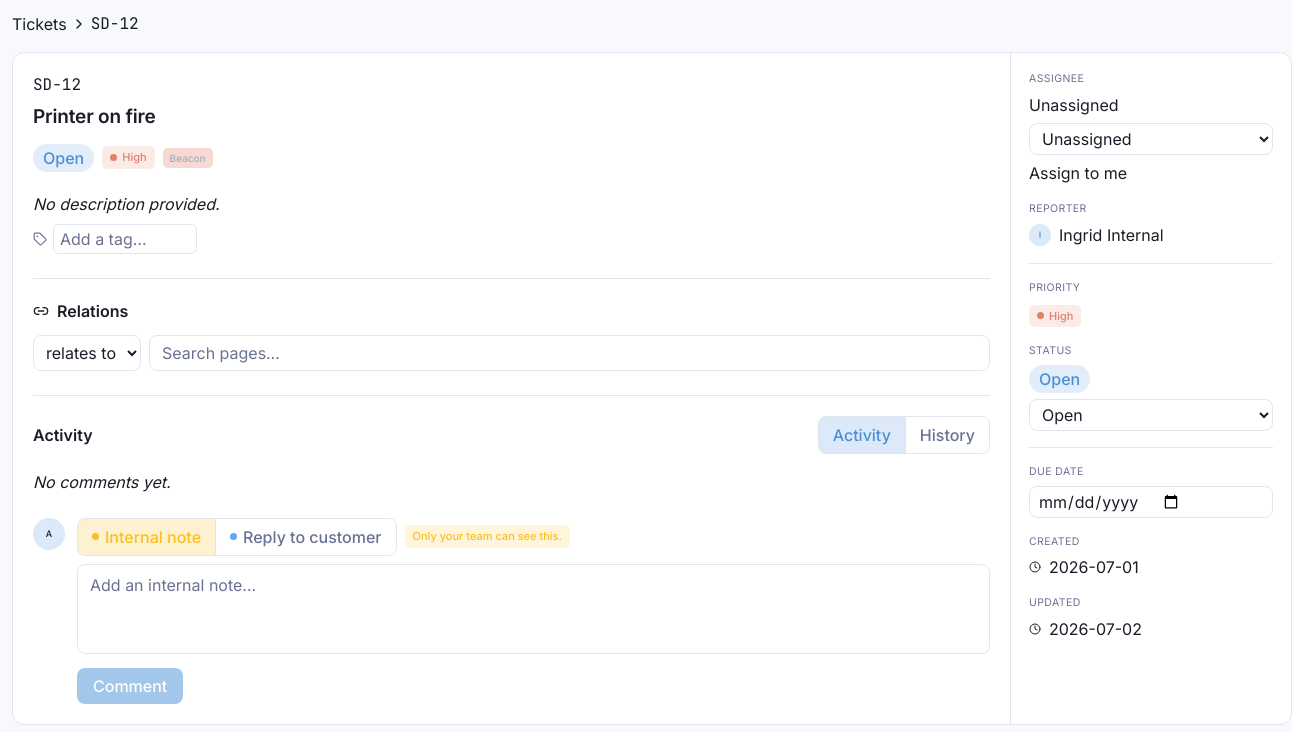
it: history tab › renders an honest empty state when there is no history
Click the radio button labelled "History" at (947, 435), box [906,417,989,453]
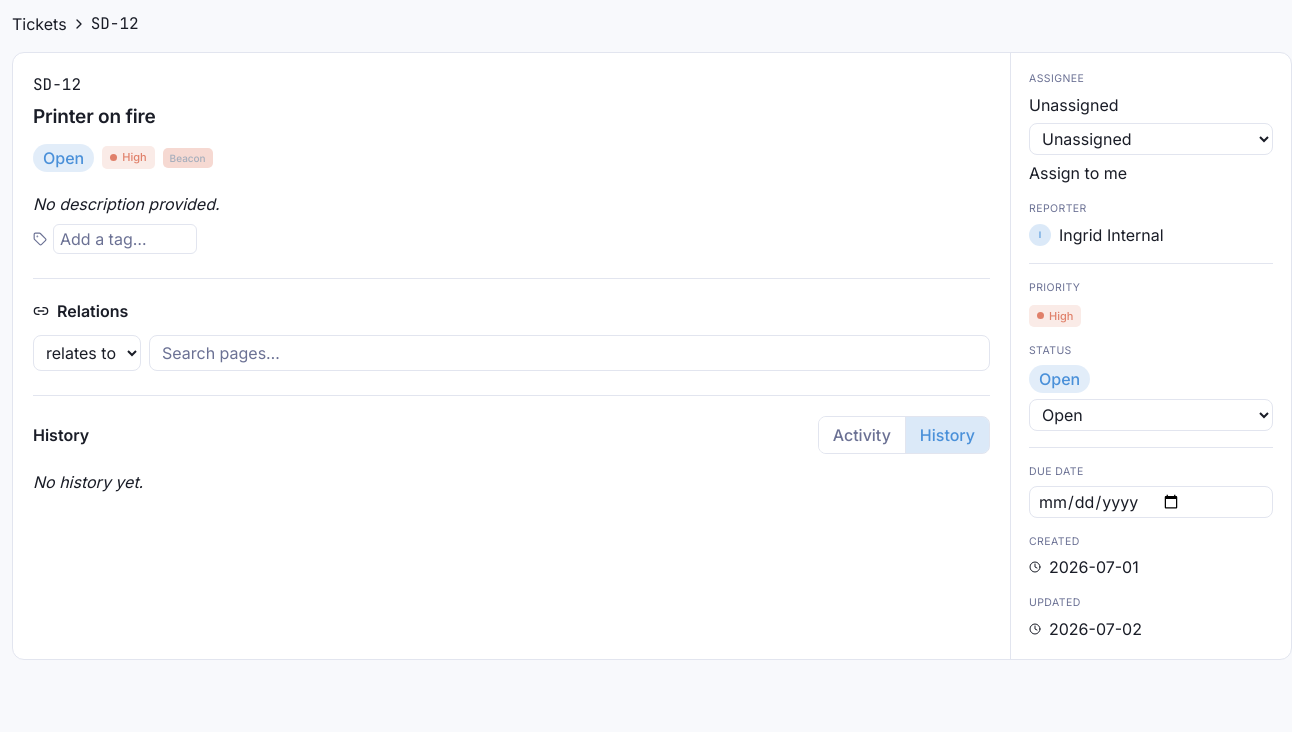
Result: the text with test id "history-empty" shows "No history yet" at [33,472,143,492]
